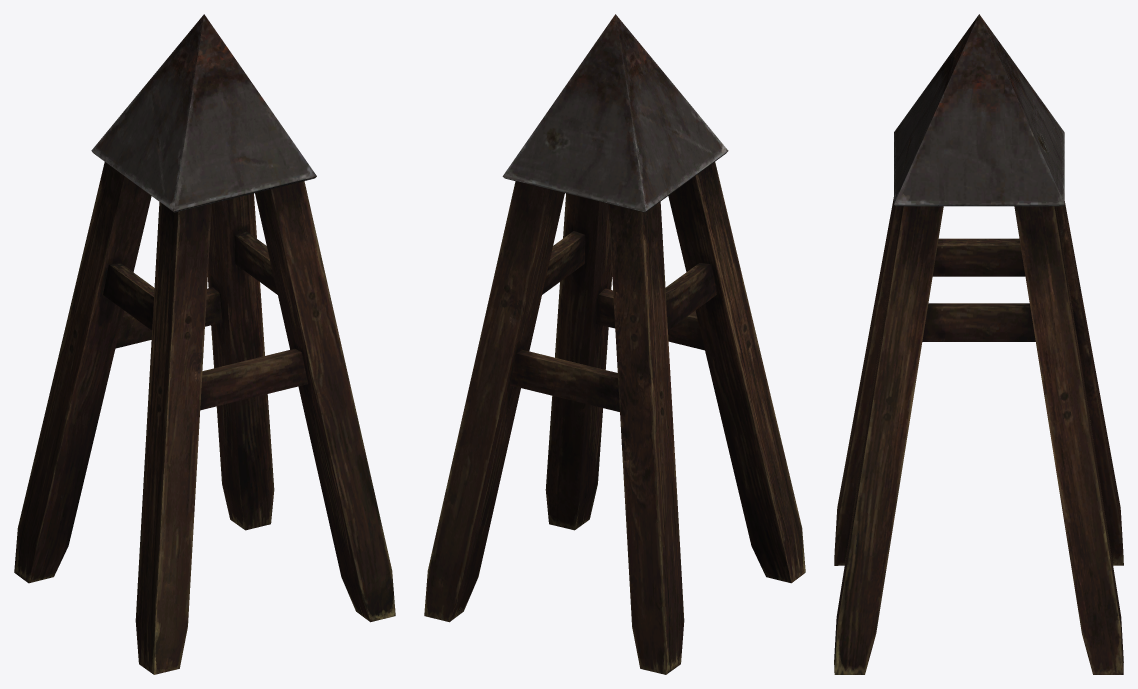
Rendered from torture_cradle.dae.
3 views of the same model, side by side, from view 1: azimuth 30°, elevation 25°; view 2: azimuth 150°, elevation 25°; view 3: azimuth 270°, elevation 25° (orthographic). The views are drawn at different scales.
Visible parts, largest first — view 1: base; view 2: base; view 3: base.
Boxes of the visible parts, box(x1,y1,x2,y2) form: base: box(14, 14, 395, 674); base: box(424, 14, 805, 674); base: box(834, 14, 1123, 674).
Size of the model in its own units: 0.7716 by 0.7733 by 1.76.
